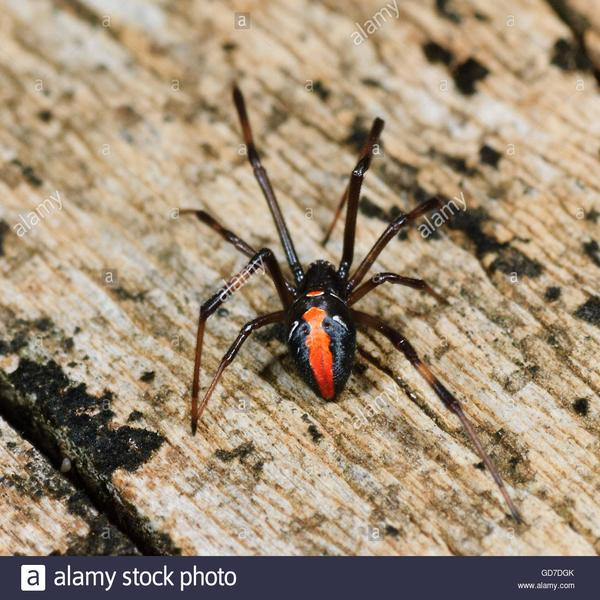Redback Spider: (189, 84, 480, 445)
